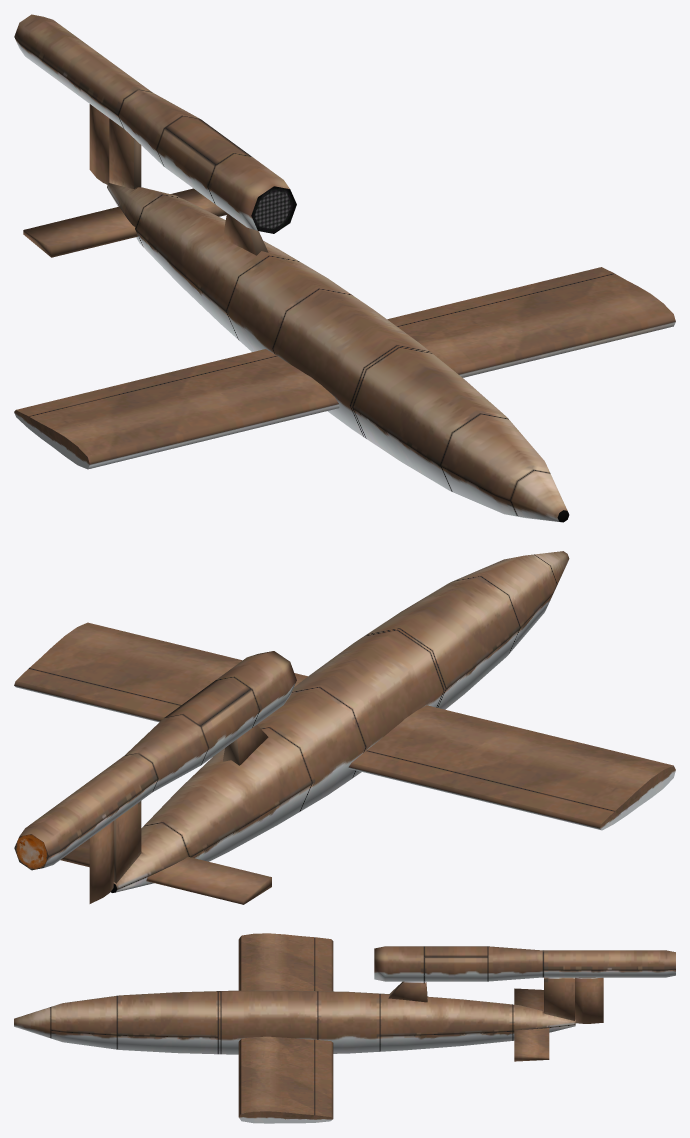
3 renders of one model, top to bottom at view 1: azimuth 30°, elevation 25°; view 2: azimuth 150°, elevation 25°; view 3: azimuth 270°, elevation 25°, orthographic. The views are drawn at different scales.
Parts seen in each view (by area): view 1: Cylinder01; view 2: Cylinder01; view 3: Cylinder01.
Part boxes in pixels (x1,y1,x2,y2): Cylinder01: [14, 14, 675, 522]; Cylinder01: [14, 551, 675, 904]; Cylinder01: [14, 933, 675, 1123].
Size of the model in its own units: 0.6102 by 0.1704 by 0.9593.
1 material, 1 textured.
